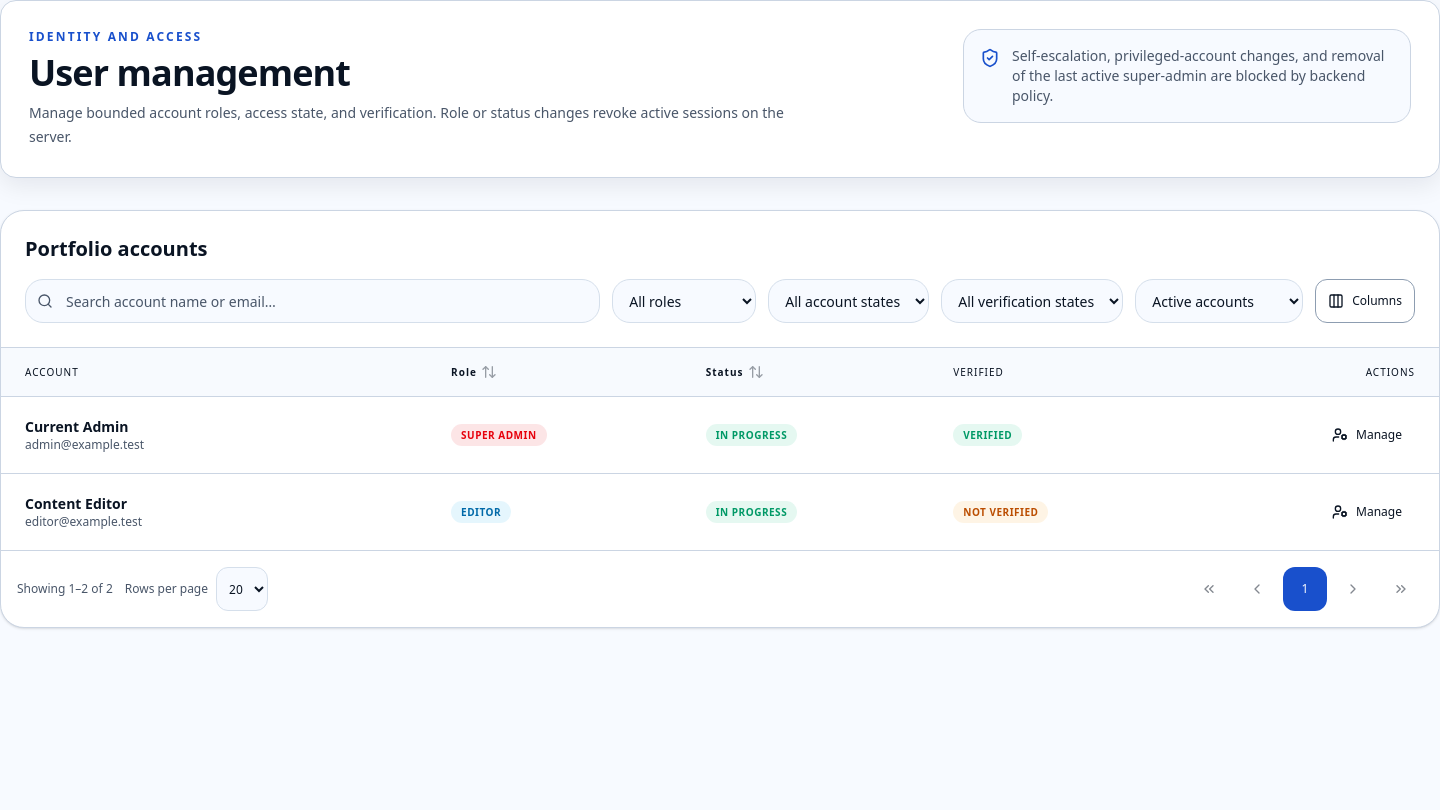
Test: user management workspace › mirrors self-escalation policy with disabled sensitive controls
This screenshot has width=1440, height=810.
Expected: the text "Current Admin" is shown, x1=25 y1=417 x2=128 y2=436
Click the button named "Manage Current Admin" at (1367, 435), box x1=1319 y1=413 x2=1415 y2=457
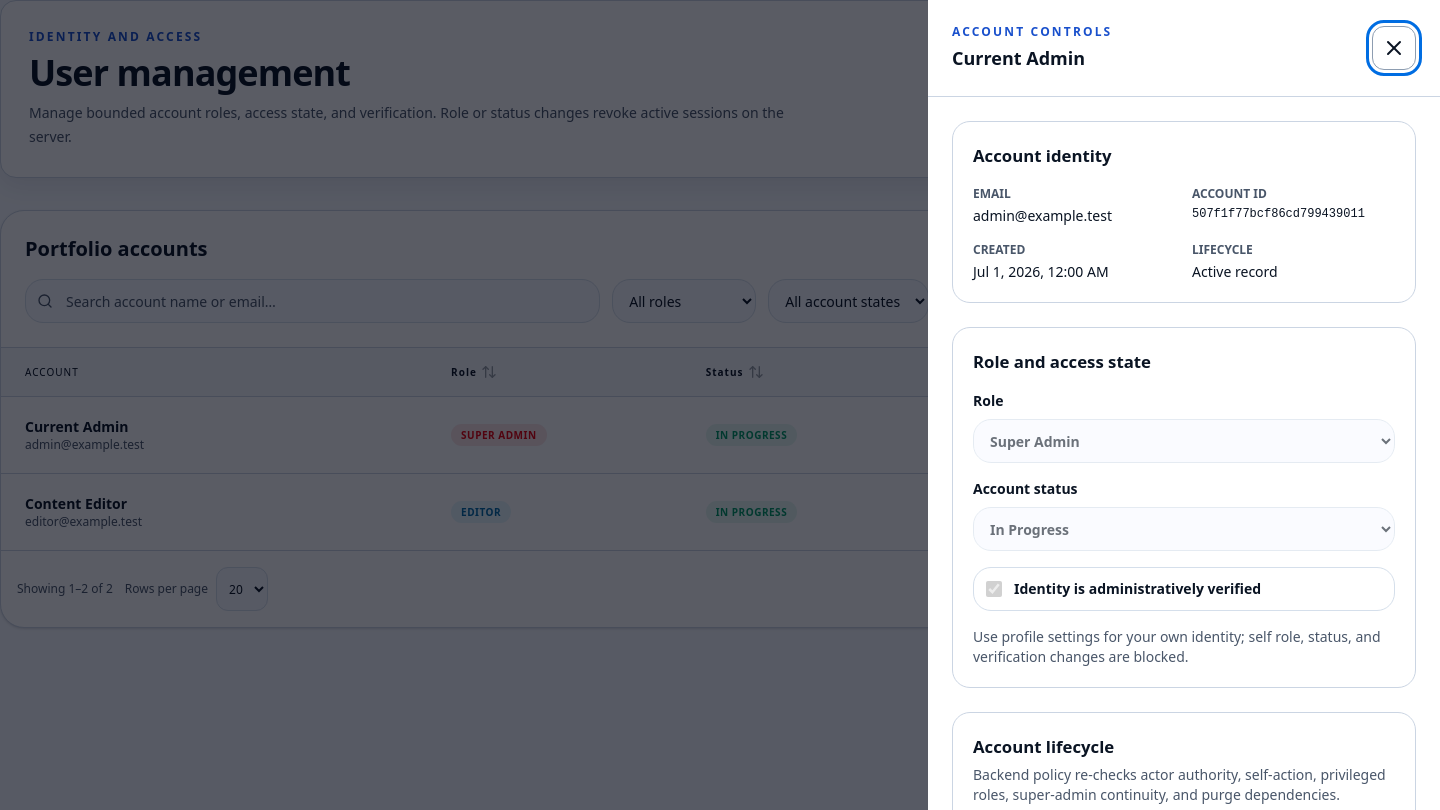
Now the dropdown labelled "Role" is disabled, box x1=973 y1=419 x2=1395 y2=463
Now the dropdown labelled "Account status" is disabled, box x1=973 y1=507 x2=1395 y2=551
Now the dialog "Current Admin" shows "self role, status, and verification changes are blocked", box x1=973 y1=627 x2=1380 y2=666
